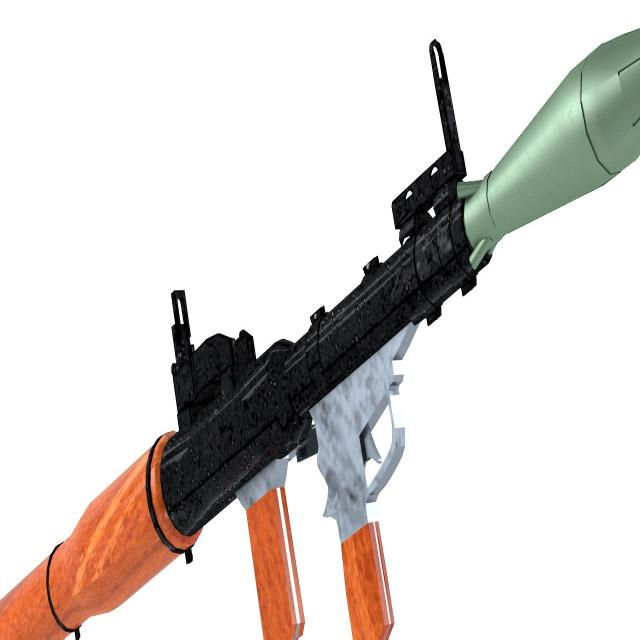Gun: (8, 10, 639, 640)
